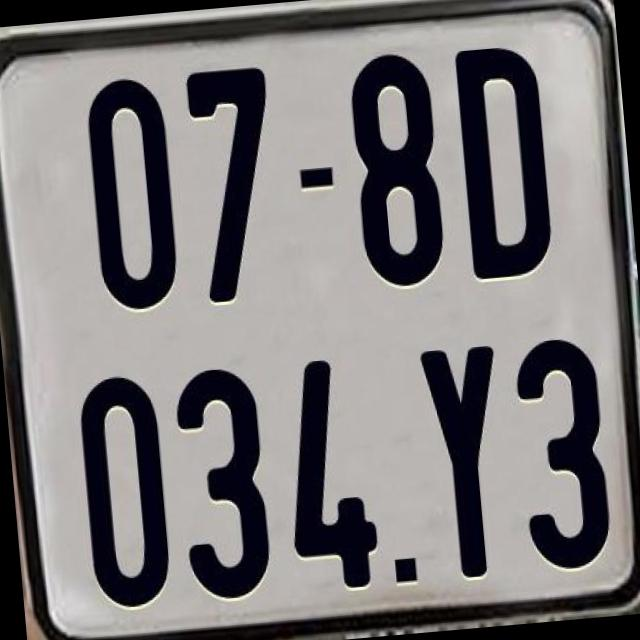0: (81, 74, 184, 316), (75, 373, 175, 614)
3: (174, 362, 282, 606), (510, 334, 618, 576)
4: (274, 354, 385, 590)
7: (182, 64, 290, 310)
8: (347, 49, 452, 294)
D: (452, 42, 560, 284)
Y: (414, 342, 508, 586)
